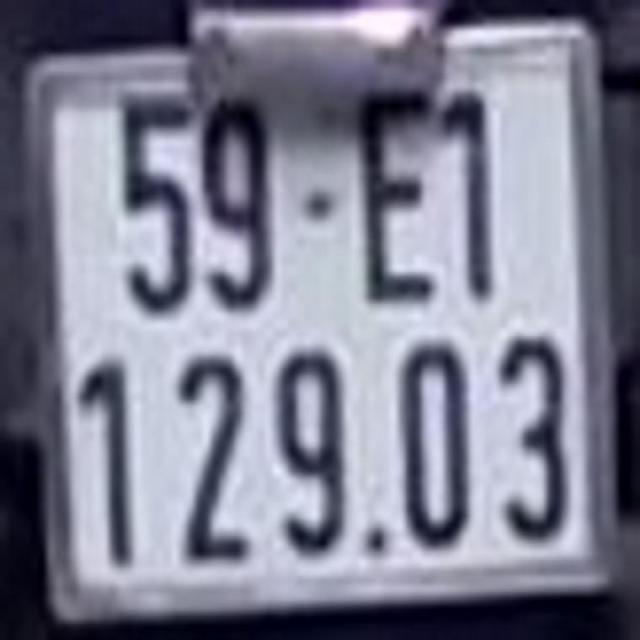0: (402, 335, 474, 544)
1: (70, 358, 150, 572), (448, 93, 500, 300)
2: (182, 346, 246, 554)
3: (496, 334, 574, 540)
5: (126, 102, 196, 308)
9: (200, 97, 270, 305), (279, 347, 342, 543)
E: (360, 88, 436, 299)
